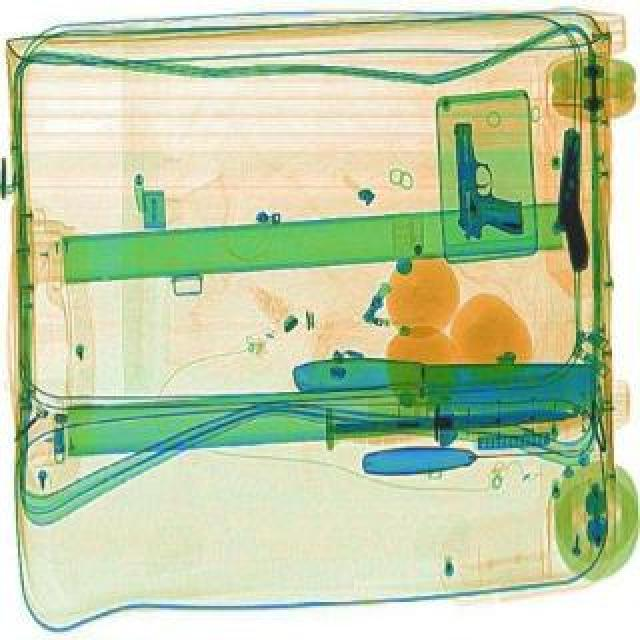gun: (454, 124, 526, 248), (552, 132, 592, 276)
knife: (294, 356, 598, 426), (362, 440, 598, 480), (336, 410, 580, 440)
